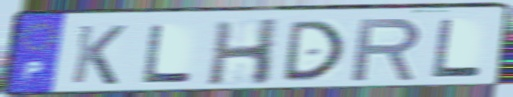D: (279, 18, 348, 84)
H: (204, 16, 283, 87)
K: (67, 23, 129, 87)
L: (429, 18, 485, 80), (139, 23, 195, 85)
R: (348, 17, 425, 84)
